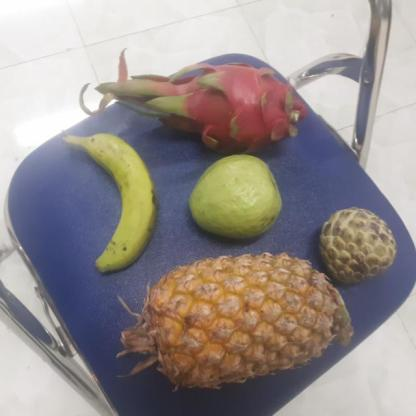annona: (311, 208, 398, 285)
banana: (70, 130, 155, 270)
guava: (185, 156, 282, 238)
pineapple: (120, 256, 347, 383)
pitaya: (176, 60, 295, 154)
